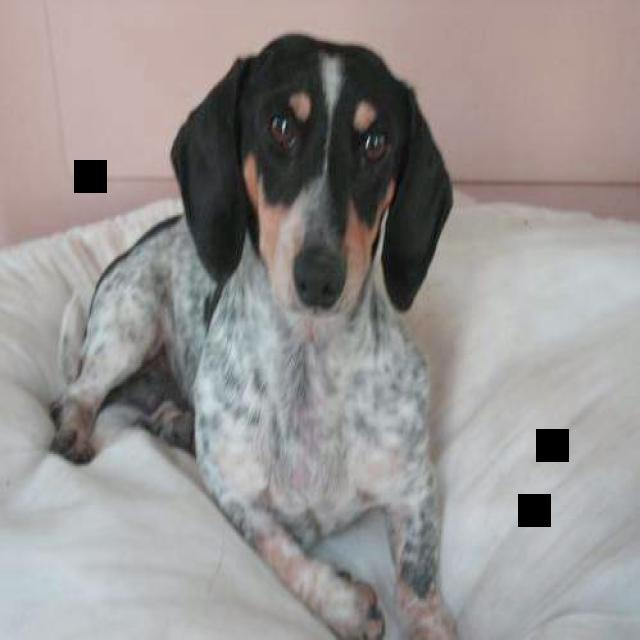adult_dog: (41, 29, 472, 640)
